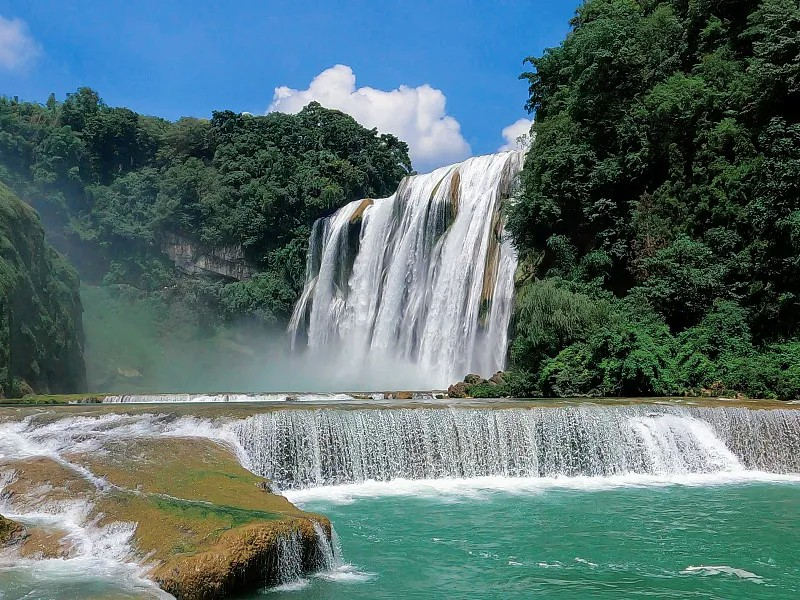Huangguoshu: (285, 149, 519, 392)
